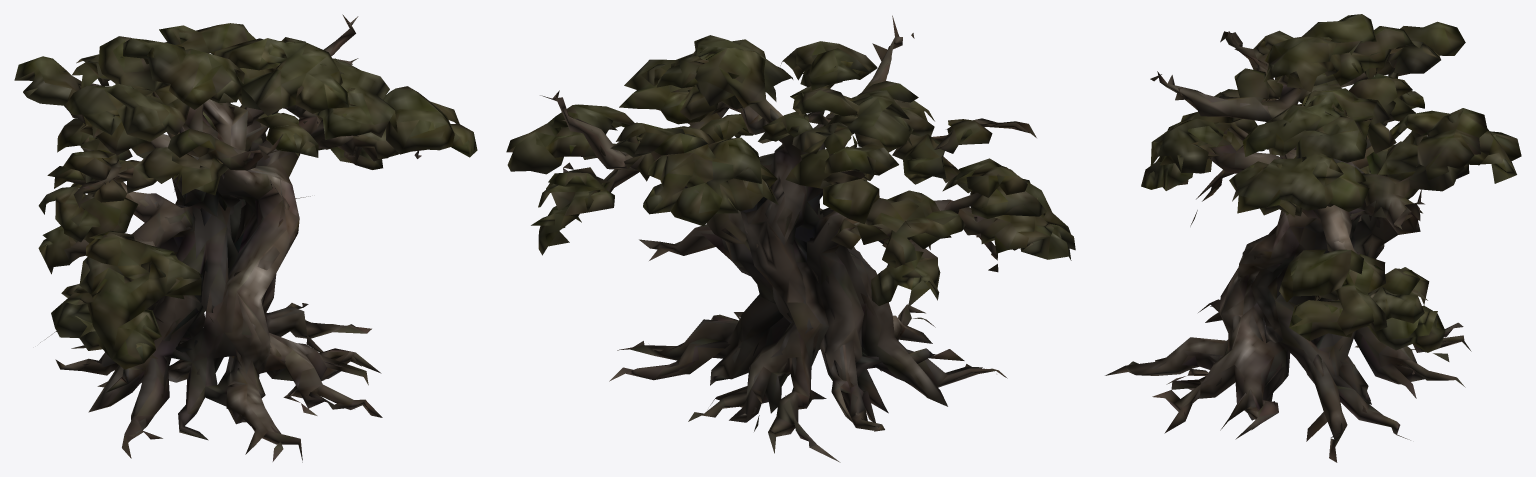
The model's file is oak.glb.
The picture shows the model from 3 angles, left to right: view 1: azimuth 30°, elevation 25°; view 2: azimuth 150°, elevation 25°; view 3: azimuth 270°, elevation 25°; orthographic projection. The views are drawn at different scales.
Parts seen in each view (by area): view 1: Mesh_0.001; view 2: Mesh_0.001; view 3: Mesh_0.001.
Boxes of the visible parts, <box> form: Mesh_0.001: <box>14,14,477,462</box>; Mesh_0.001: <box>506,15,1075,462</box>; Mesh_0.001: <box>1105,14,1521,462</box>.
Bounding box in the file's own units: 7.14 × 5 × 5.45.
Materials: 1 (1 with a texture image).
